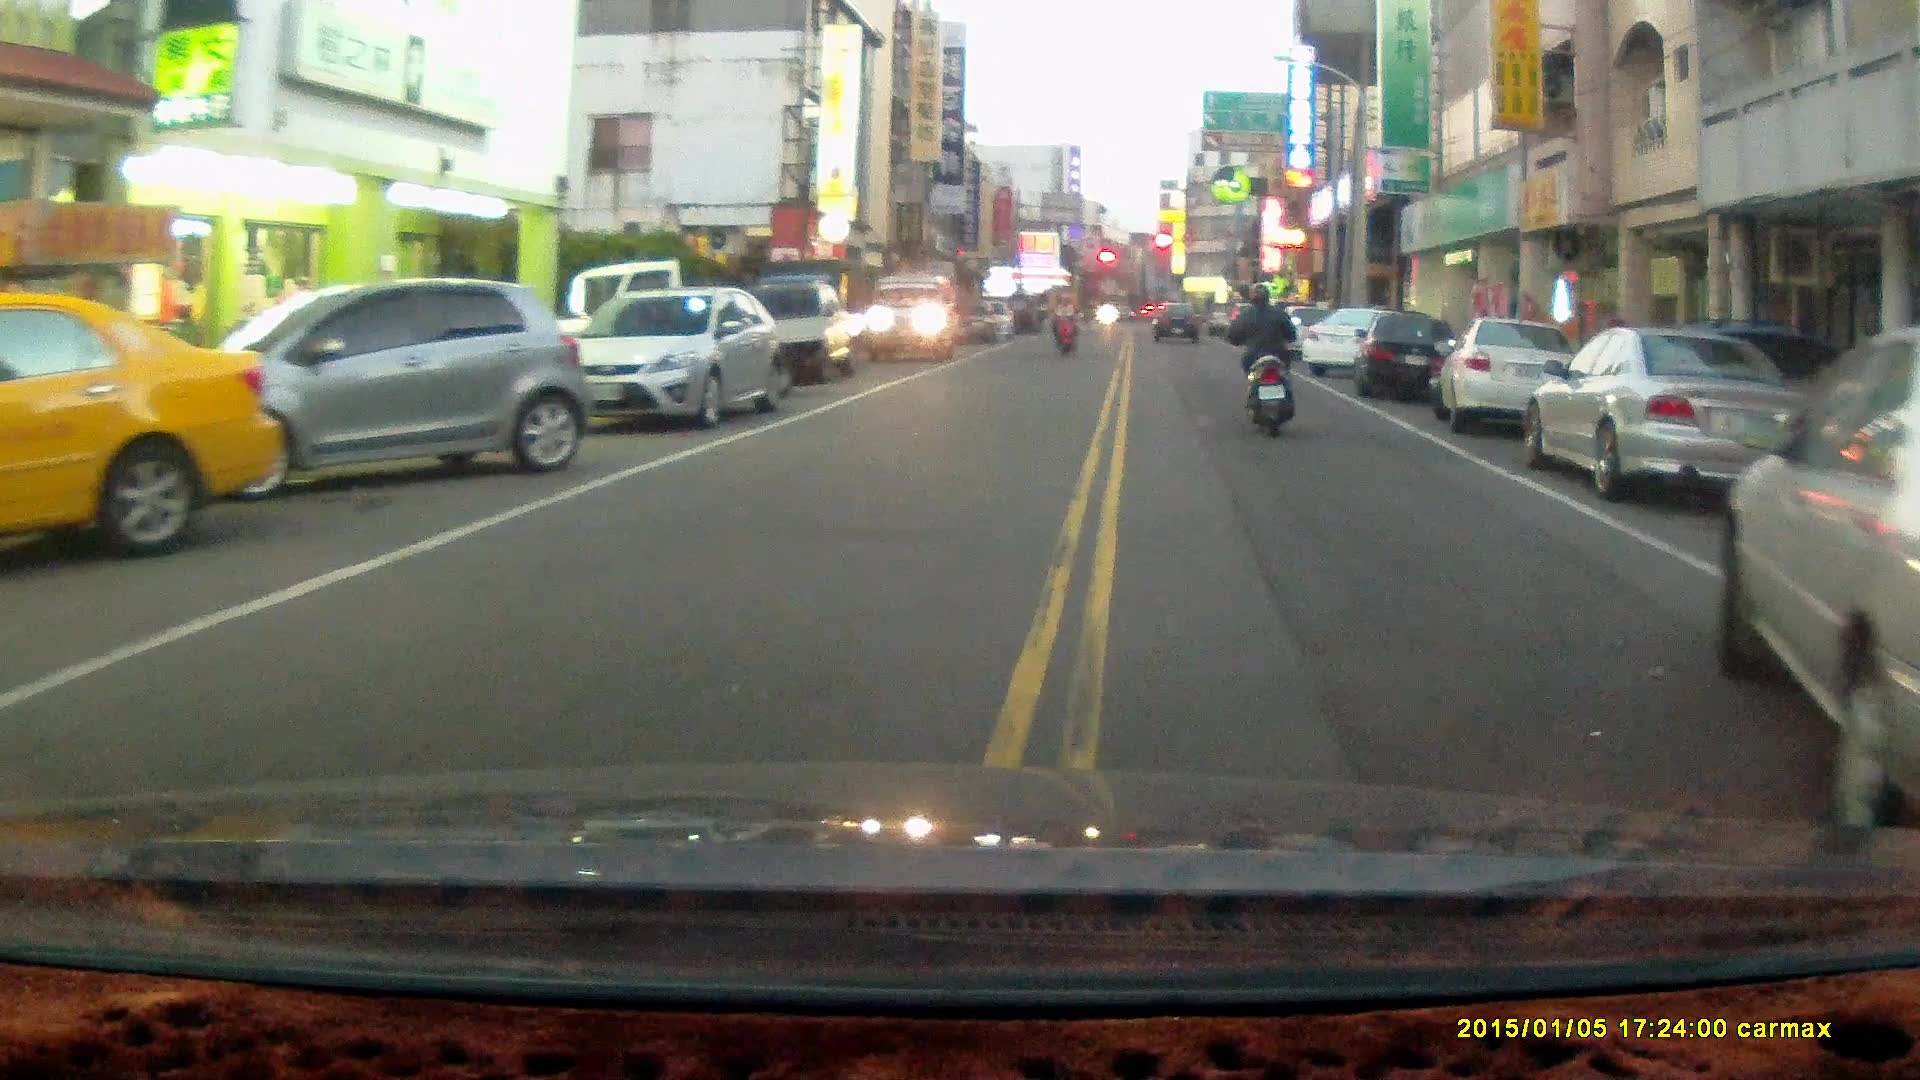rider: (1219, 281, 1294, 437), (1047, 288, 1076, 356)
vehicle: (1713, 323, 1918, 828), (157, 275, 576, 498), (1, 290, 278, 567), (1517, 322, 1824, 506), (559, 283, 790, 430), (1431, 317, 1571, 432), (735, 276, 878, 381), (866, 270, 956, 362)
